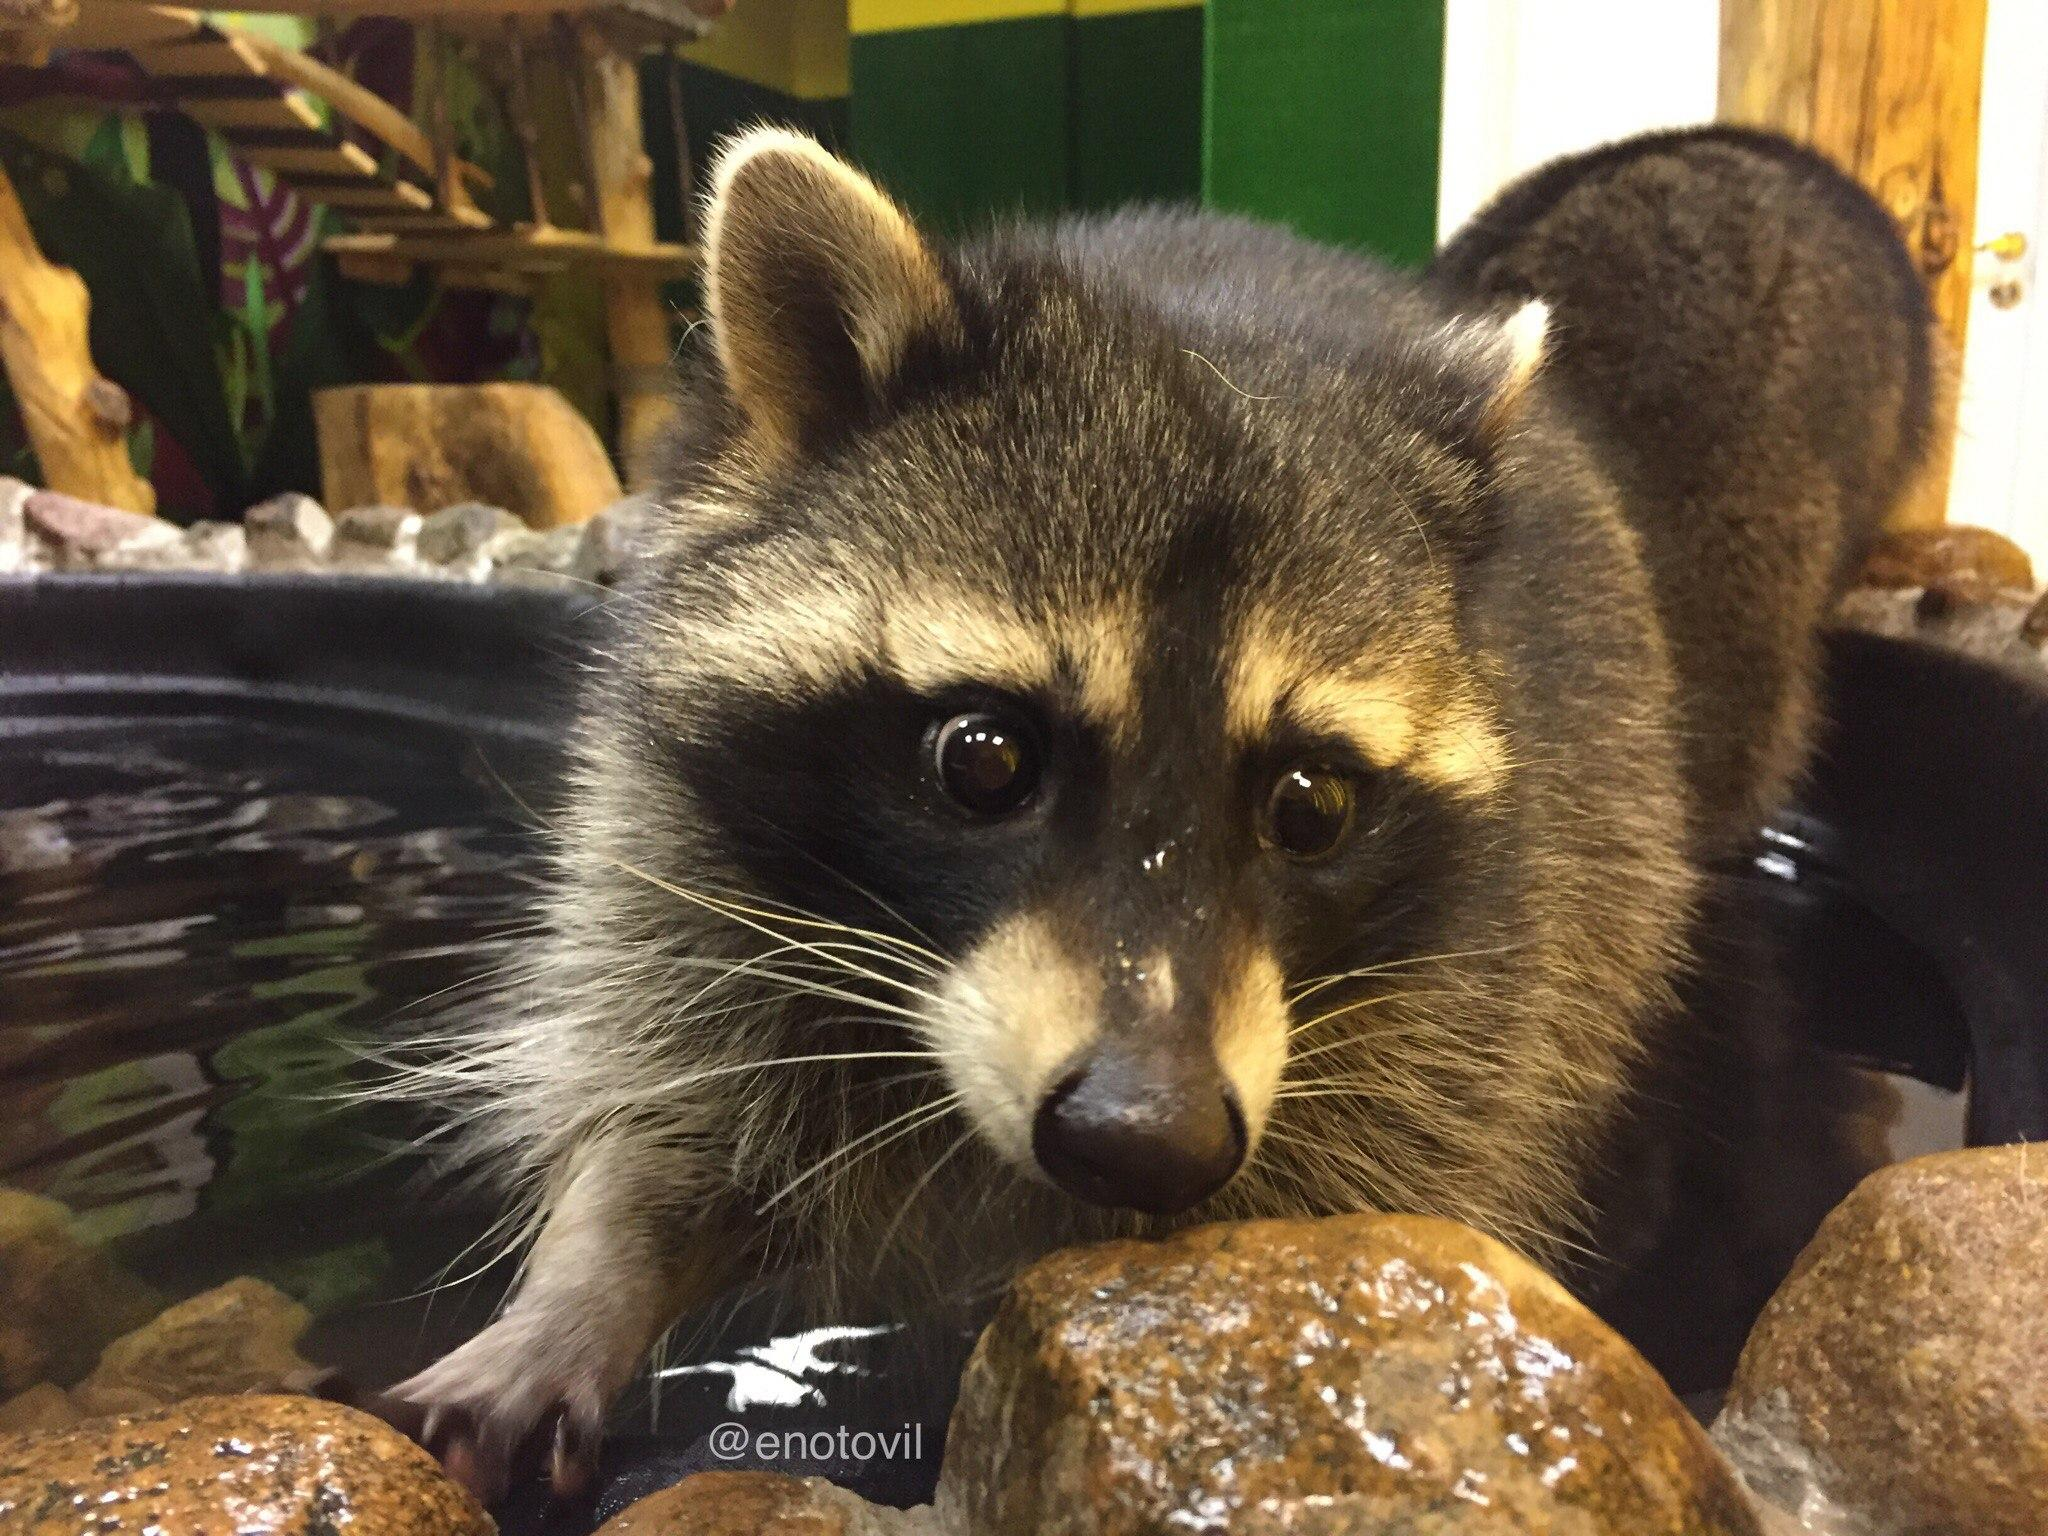raccoon: (402, 123, 1693, 1497)
